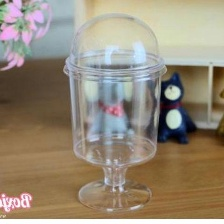glass: (59, 7, 173, 215)
